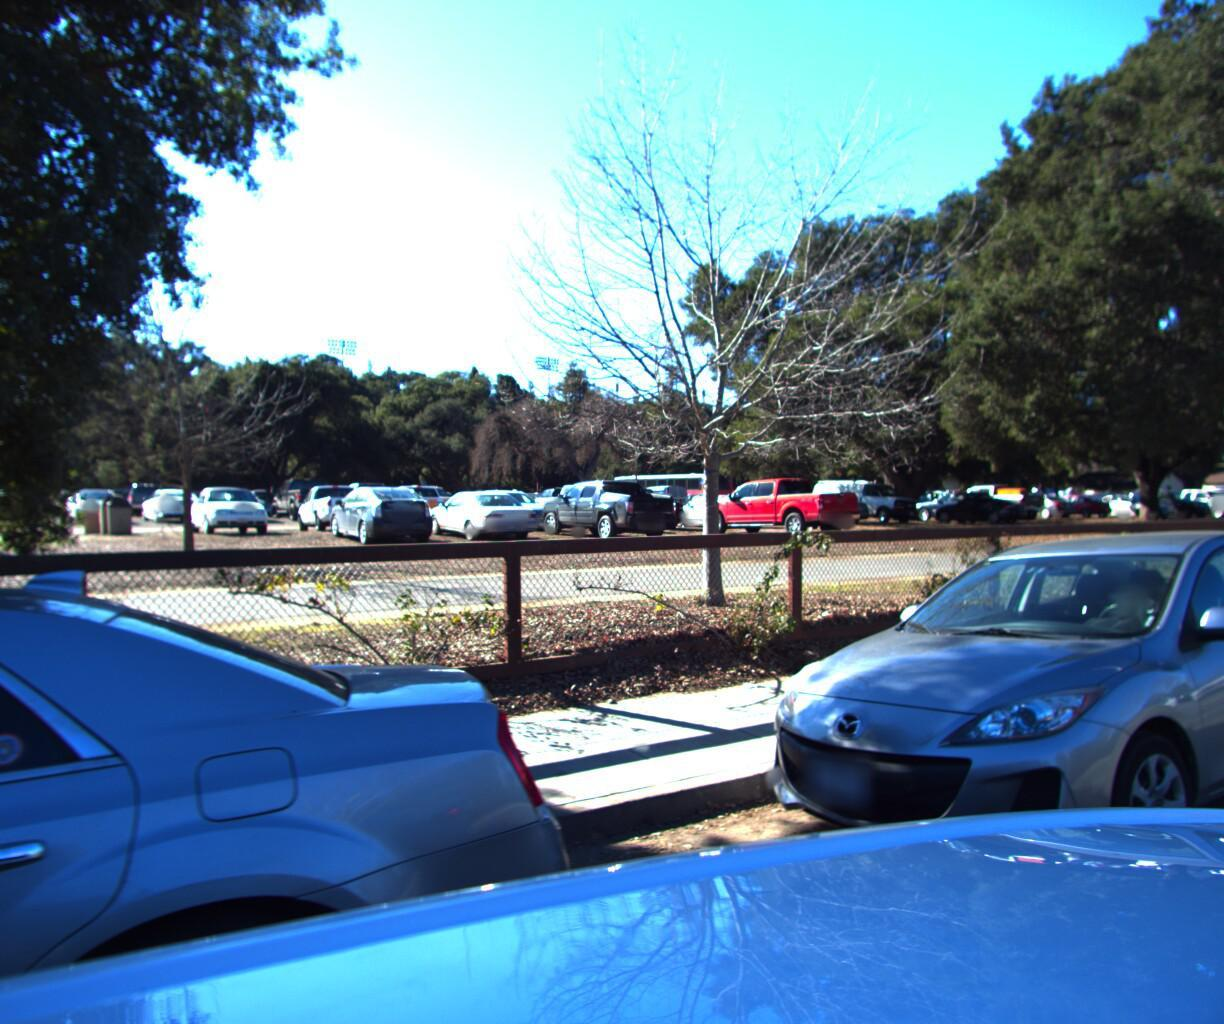car: (712, 514, 1224, 975)
